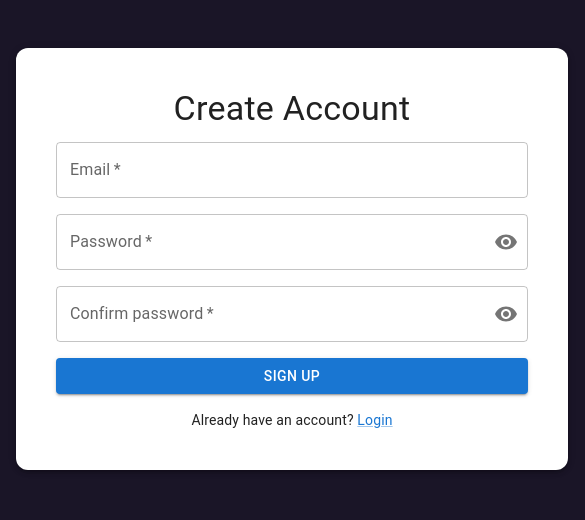
Scenario: SignupPage › error messages › should show the verify account message when supabase returns no error but no session
Type "test@test.com" into the field with placeholder "Enter Email" at (292, 170), box [56,142,528,198]
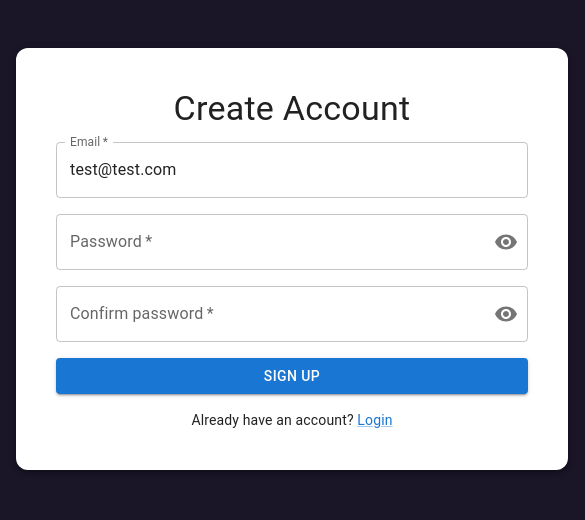
Type "Password123!" into the password field with placeholder "Enter Password" at (267, 242), box [56,214,478,270]
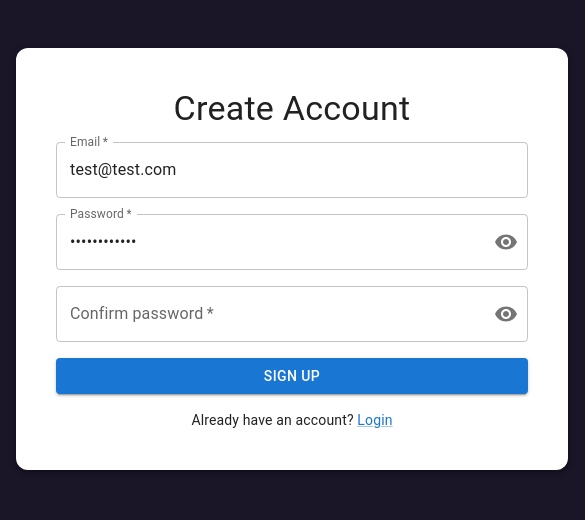
Type "Password123!" into the password field with placeholder "Retype Password" at (267, 314), box [56,286,478,342]
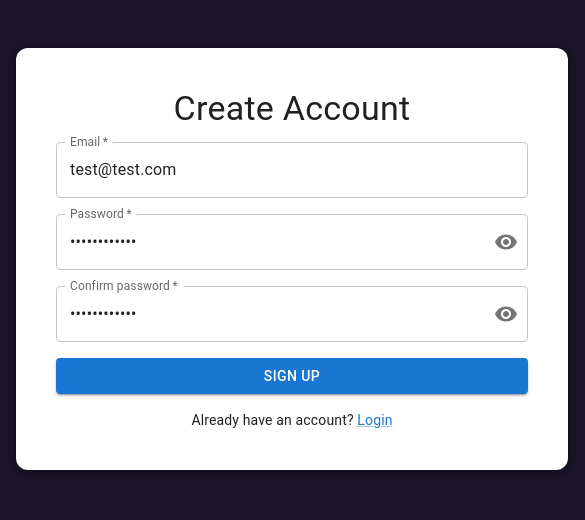
Click the button "Sign up" at (292, 376), box [56,358,528,394]
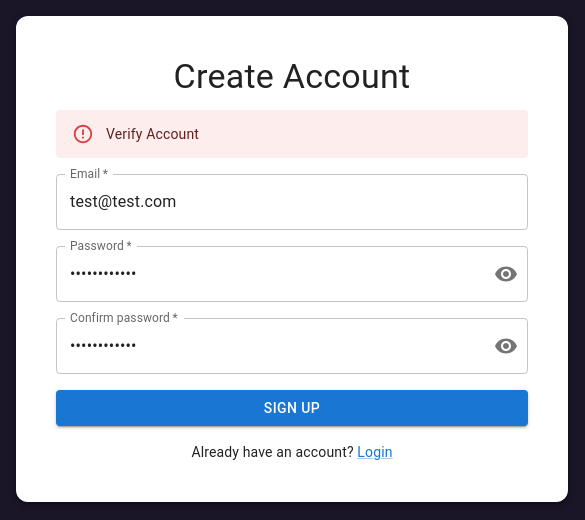
expect the text "Verify Account" is shown: met, box [106,126,199,142]
